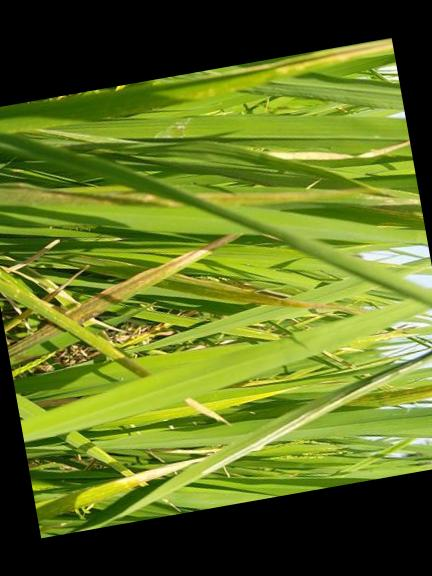Leaf Blight: (171, 351, 432, 490), (219, 40, 393, 82), (90, 456, 207, 497), (67, 328, 150, 378), (260, 137, 410, 164), (0, 239, 58, 274), (41, 266, 88, 303), (182, 399, 230, 426), (13, 267, 57, 294), (80, 318, 126, 334), (3, 309, 32, 333), (52, 292, 79, 311)
Leaf Streak: (66, 234, 239, 322), (171, 273, 362, 315), (193, 190, 423, 216), (5, 192, 183, 208), (358, 381, 432, 407), (7, 324, 58, 359), (9, 353, 43, 368)
